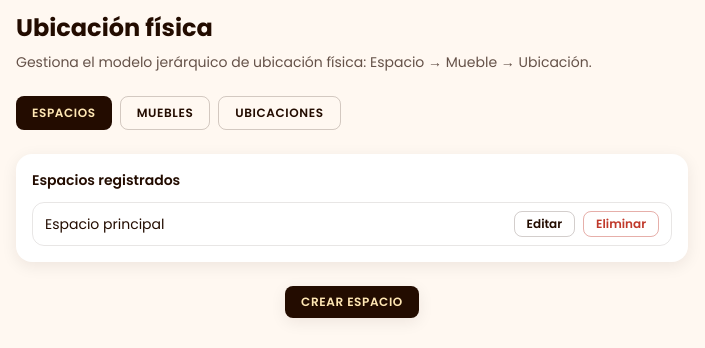
Scenario: GestionUbicacionFisicaComponent › pestaña Ubicaciones › muestra el espacio y el mueble al que pertenece cada ubicación
Click the button "Ubicaciones" at (279, 113), box x1=218 y1=96 x2=341 y2=130
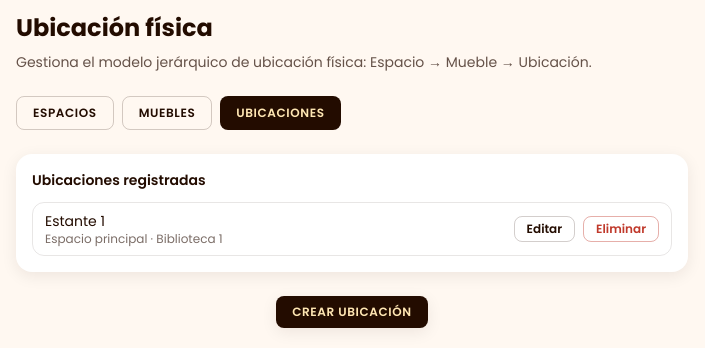
Expected: the text "Espacio principal" is shown, x1=45 y1=230 x2=223 y2=247
Expected: the text "Estante 1" is shown, x1=45 y1=211 x2=105 y2=231
Expected: the text "Biblioteca 1" is shown, x1=45 y1=230 x2=223 y2=247
